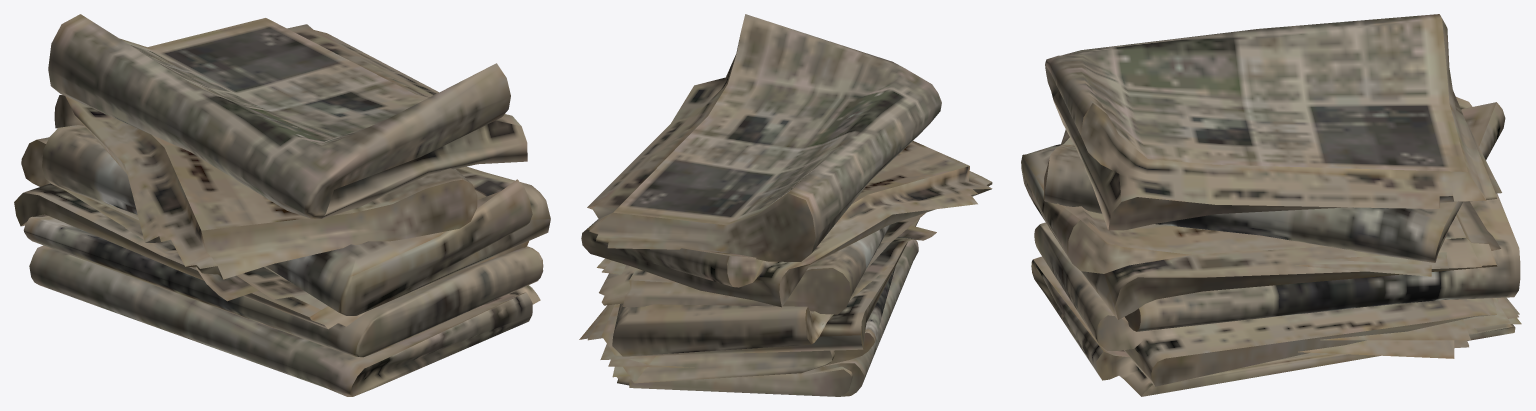
File: 010_NewsPaper.fbx
3 views of the same model, side by side, from view 1: azimuth 30°, elevation 25°; view 2: azimuth 150°, elevation 25°; view 3: azimuth 270°, elevation 25° (orthographic). The views are drawn at different scales.
Parts seen in each view (by area): view 1: LOD_1_Group_0_Sub_1__sm36_010_Newspaper01A_A_Mat; view 2: LOD_1_Group_0_Sub_1__sm36_010_Newspaper01A_A_Mat; view 3: LOD_1_Group_0_Sub_1__sm36_010_Newspaper01A_A_Mat.
Boxes of the visible parts, x1,y1,x2,y2 form: LOD_1_Group_0_Sub_1__sm36_010_Newspaper01A_A_Mat: [14, 14, 550, 396]; LOD_1_Group_0_Sub_1__sm36_010_Newspaper01A_A_Mat: [579, 14, 992, 396]; LOD_1_Group_0_Sub_1__sm36_010_Newspaper01A_A_Mat: [1021, 14, 1521, 396].
Bounding box in the file's own units: 0.4301 × 0.2867 × 0.4928.
